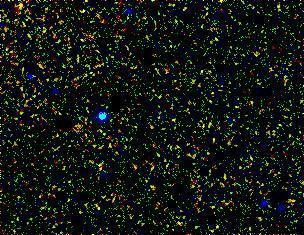star: (4, 0, 34, 23)
